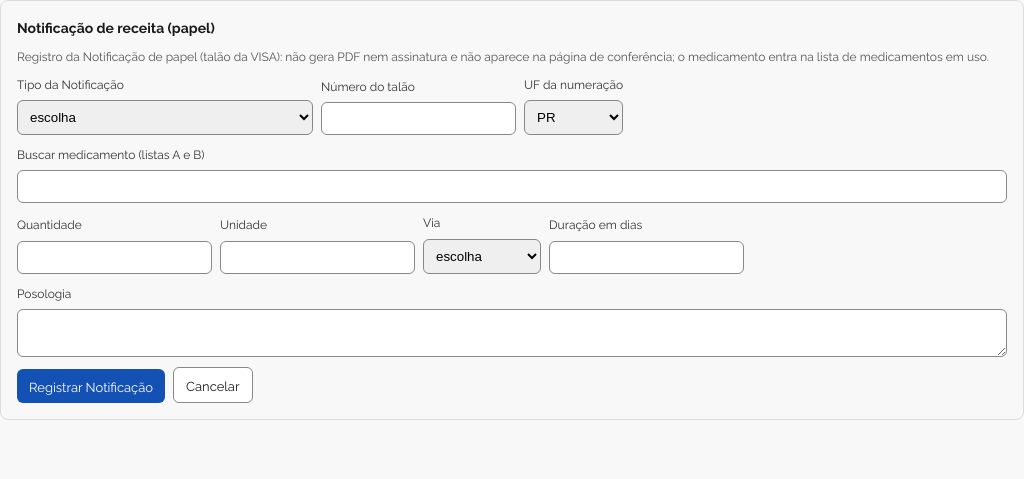
Test case: NotificationRecordForm › recusa notification_type_mismatch do api fica no formulário, que fica preenchido
In the field labelled "Buscar medicamento (listas A e B)": (512, 187) [17, 170, 1007, 204], type "Clonaz"
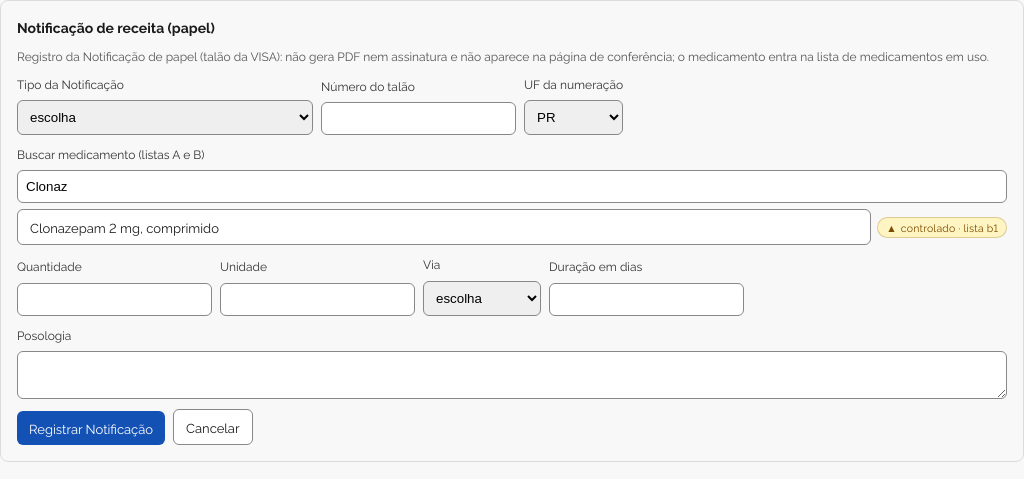
Click the button "Clonazepam 2 mg, comprimido": (124, 227) [17, 210, 871, 246]
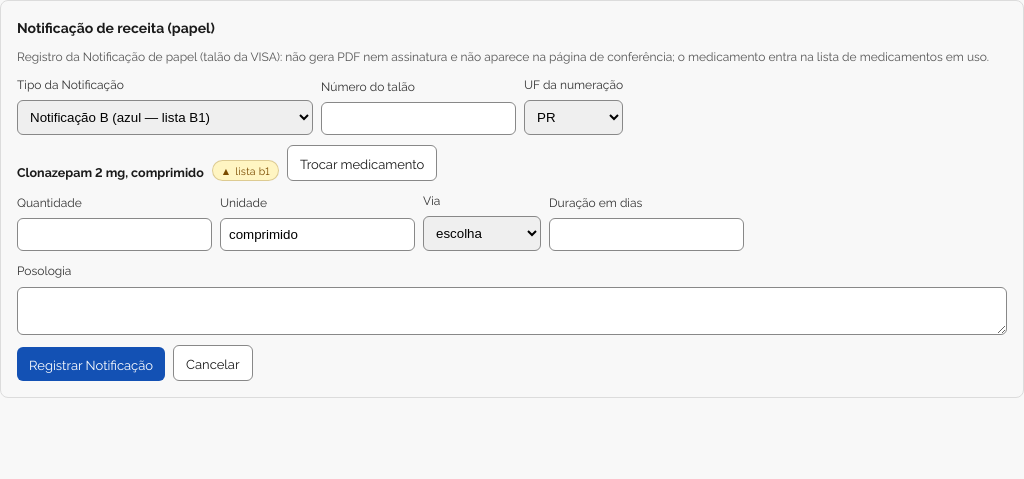
In the field labelled "Número do talão": (418, 119) [321, 102, 516, 135], type "PR0012345"
In the field labelled "Quantidade": (114, 235) [17, 218, 212, 252], type "30"
Select "oral" in the dropdown labelled "Via": (482, 234) [423, 216, 541, 252]
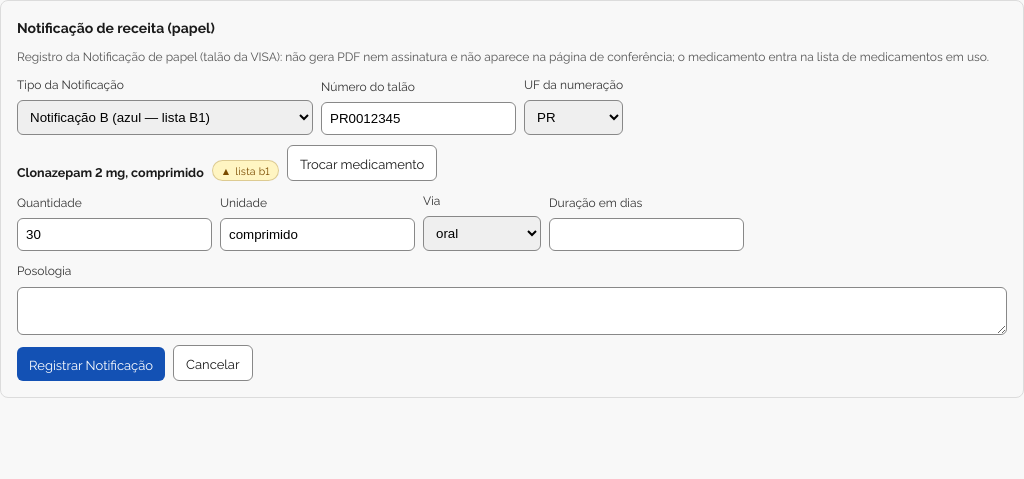
In the field labelled "Duração em dias": (646, 235) [549, 218, 744, 252], type "30"
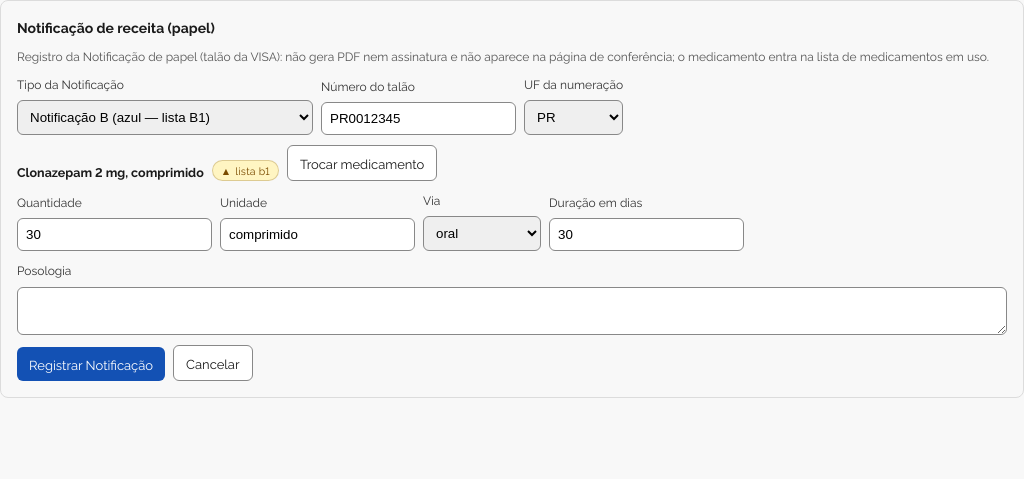
In the text box labelled "Posologia": (512, 311) [17, 287, 1007, 335], type "1 comprimido à noite"
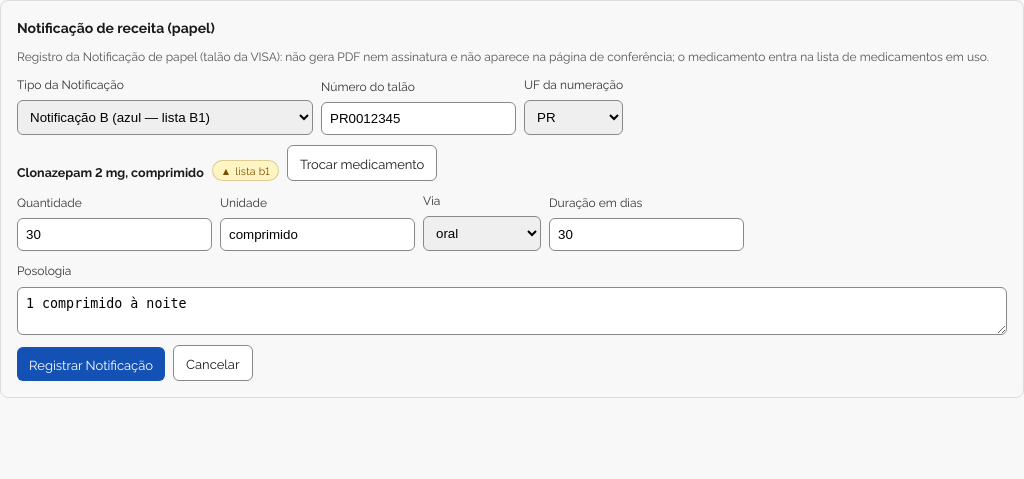
Click the button "Registrar Notificação": (91, 364) [17, 347, 165, 381]
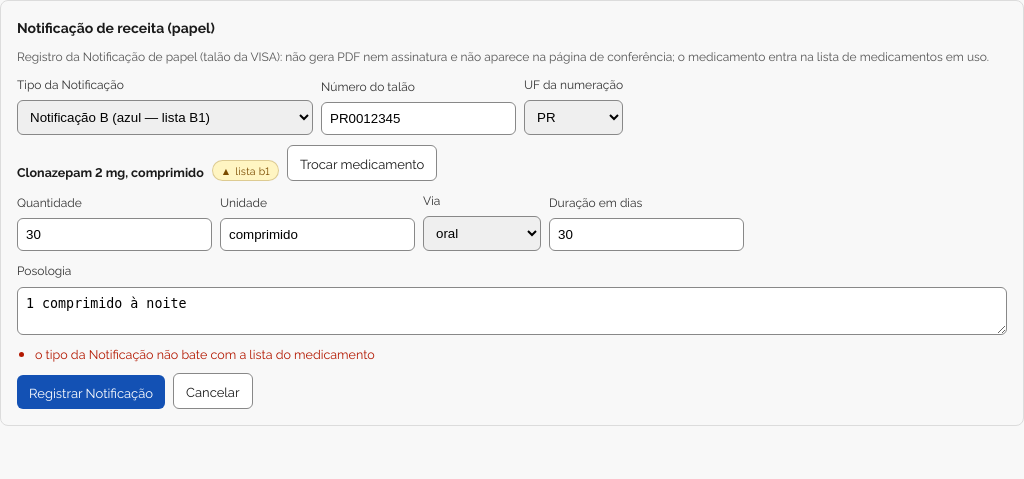
Expected: the message reads "o tipo da Notificação não bate com a lista do medicamento", [35, 345, 375, 362]
